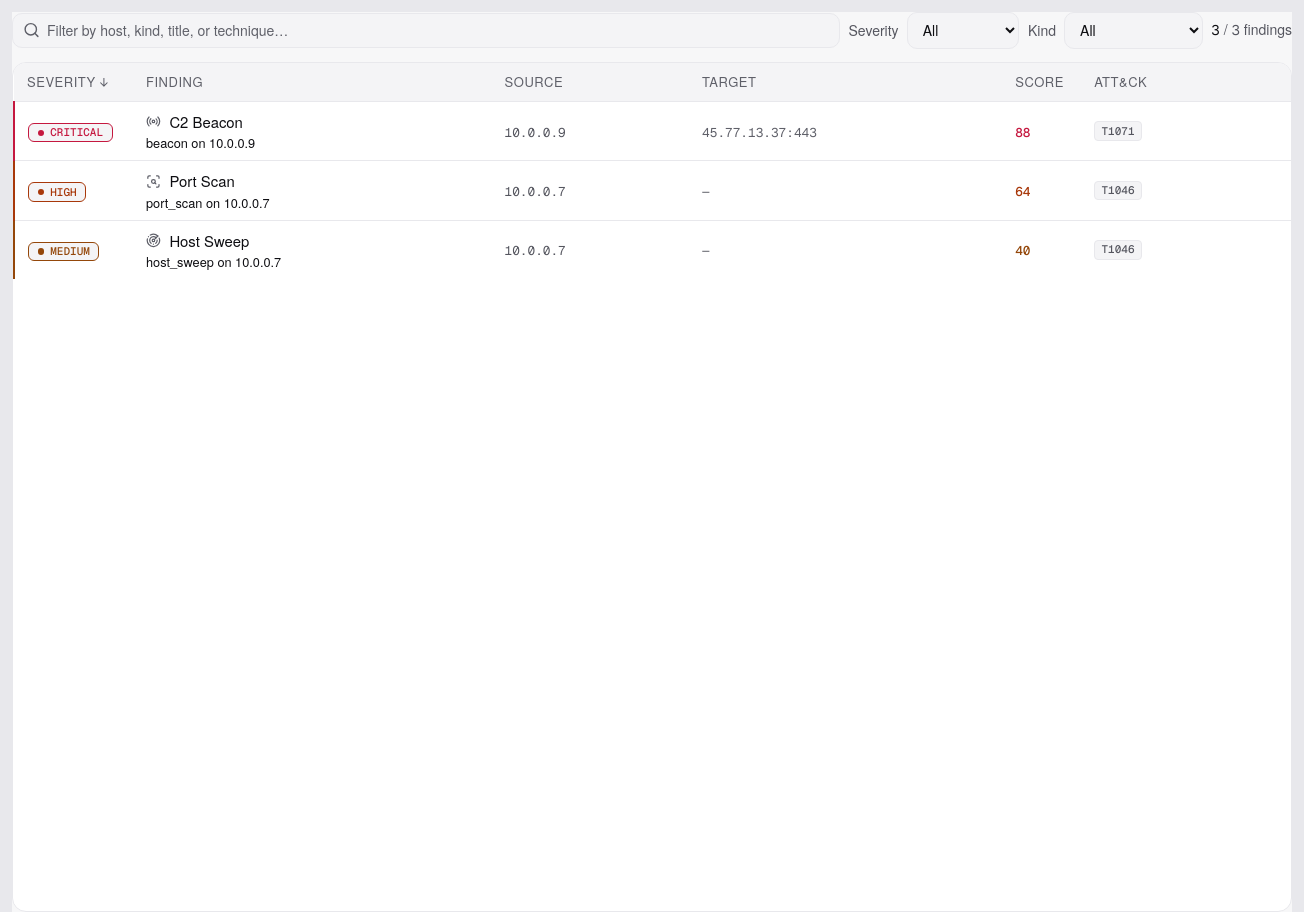
Test case: FindingsView › filters by severity
Select "Critical" in the dropdown named "Filter by severity": (963, 30) [907,12,1020,49]
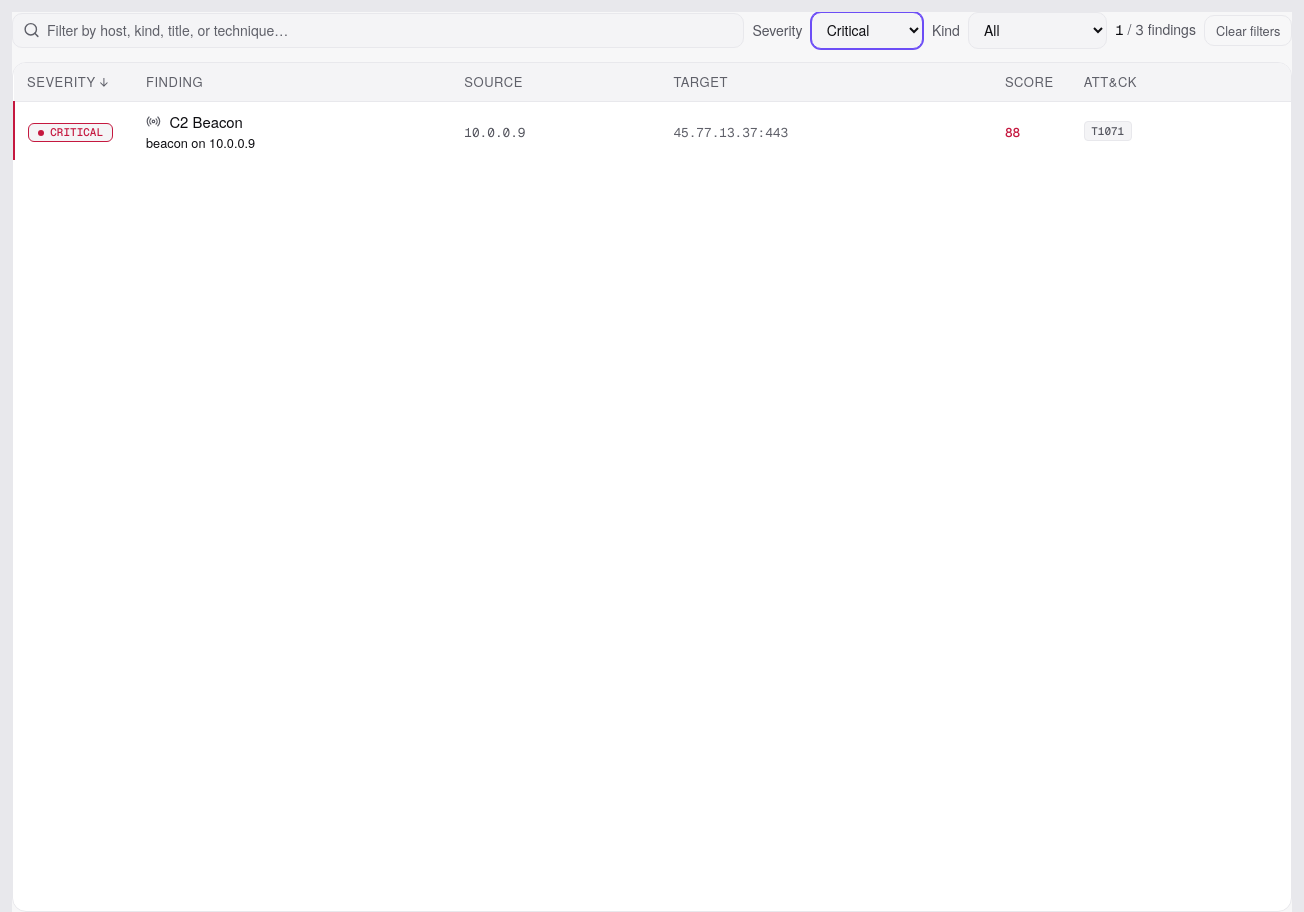
Expected: the text "C2 Beacon" is shown, [169,111,243,132]
Now the text "Port Scan" is gone
